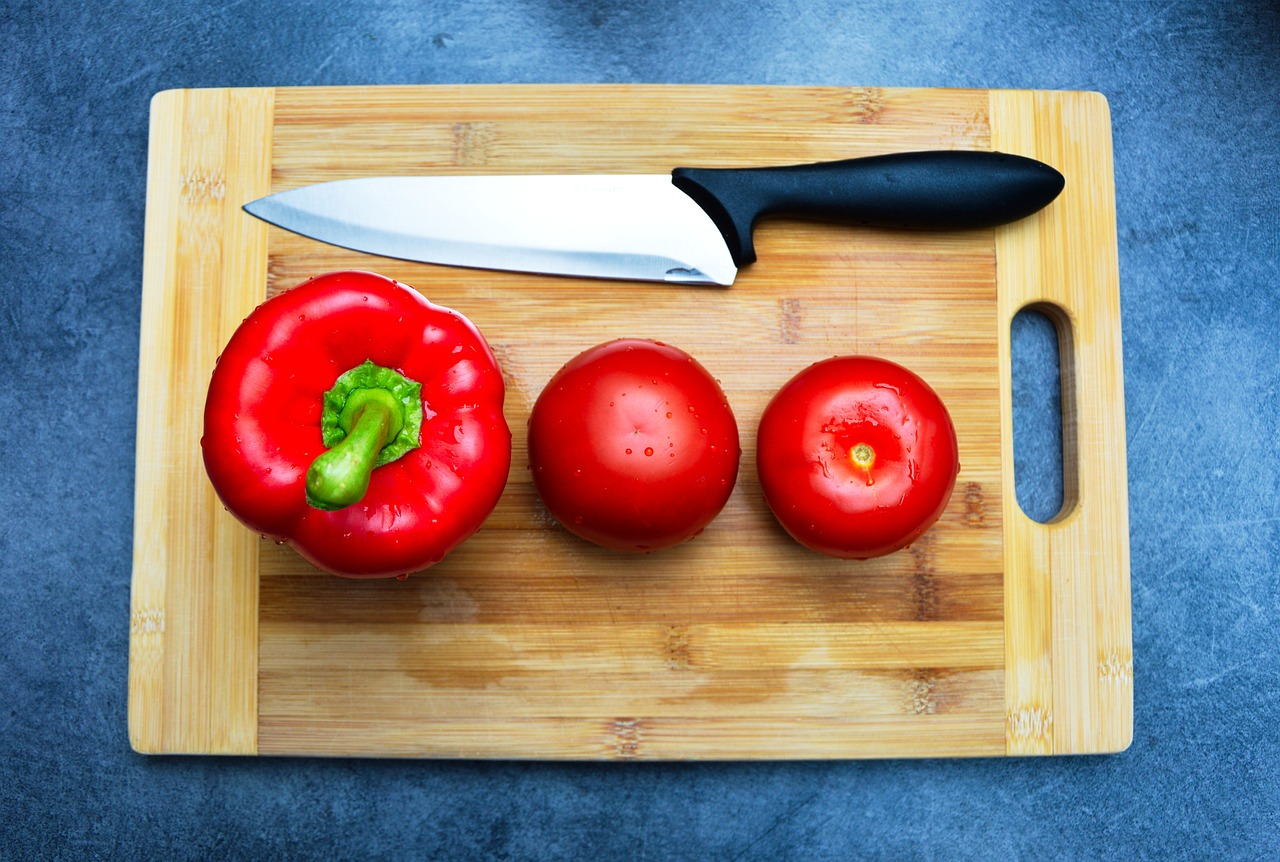knife: (233, 141, 1067, 294)
